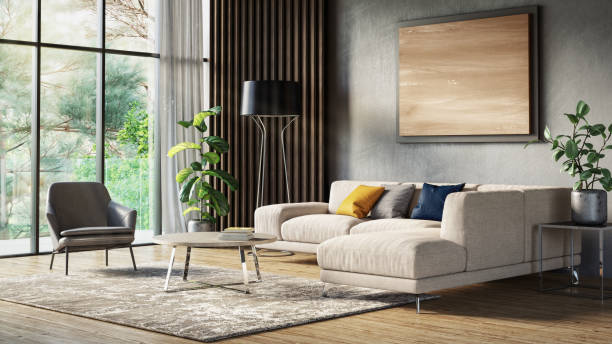chair: (44, 179, 139, 275)
floor lamp: (238, 78, 305, 207)
large plant: (166, 103, 236, 229)
side table: (532, 224, 612, 304)
small plant: (542, 98, 612, 226)
sofa: (251, 177, 582, 315)
table: (149, 230, 276, 294)
wall art: (391, 4, 543, 147)
